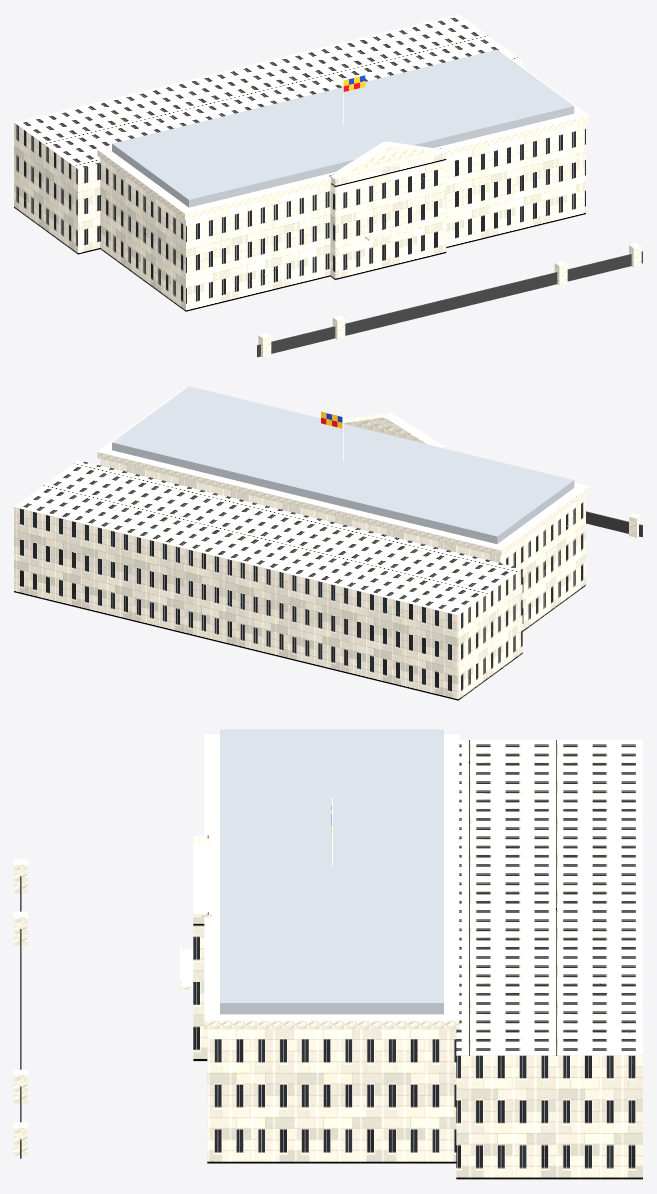
The model's file is buckingham.glb.
3 views of the same model, one above another, from view 1: azimuth 30°, elevation 25°; view 2: azimuth 150°, elevation 25°; view 3: azimuth 270°, elevation 25° (orthographic). The views are drawn at different scales.
Parts seen in each view (by area): view 1: Front, Roof, Balustrade, Railings; view 2: Front, Roof, Balustrade, Railings; view 3: Front, Roof, Balustrade.
Boxes of the visible parts, x1,y1,x2,y2 form: Front: (14,14,585,311); Roof: (112,49,574,207); Balustrade: (97,51,641,357); Railings: (257,251,642,356); Front: (14,445,585,700); Roof: (112,386,574,543); Balustrade: (97,388,641,556); Railings: (586,511,642,537); Front: (193,740,642,1179); Roof: (220,729,443,1014); Balustrade: (14,734,459,1155).
Bounding box in the file's own units: 120 × 39.6 × 101.
Materials: 6 (3 with a texture image).
